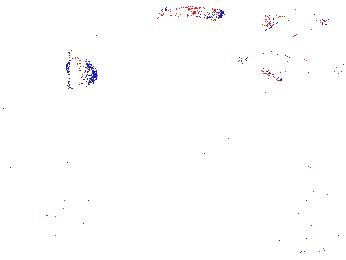X-ray fish: (64, 42, 98, 93)
glassfish: (119, 135, 234, 210)
redtail glassfish: (260, 7, 333, 34), (236, 51, 309, 72), (159, 1, 224, 22)
